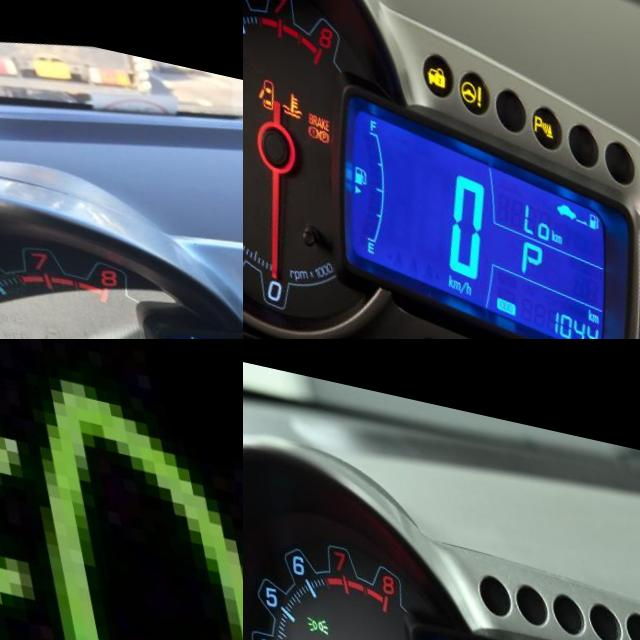Doors: (243, 64, 267, 101)
Engine cooling system: (265, 77, 294, 110)
FrontFogLight: (0, 339, 243, 640)
SideLamp: (293, 607, 318, 628)
